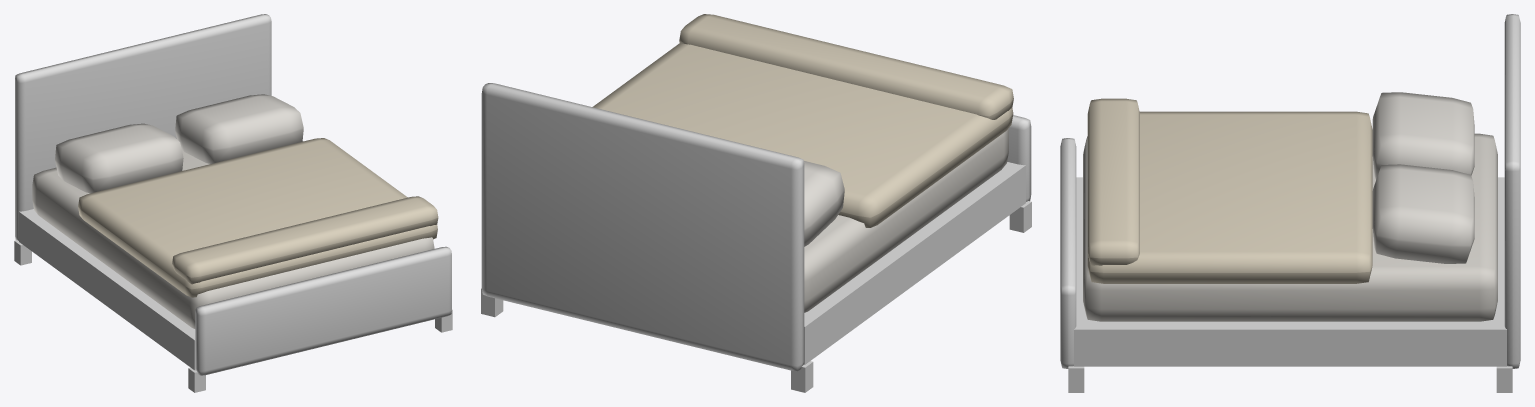
The model's file is bed-double-cream.glb.
3 renders of one model, left to right at view 1: azimuth 30°, elevation 25°; view 2: azimuth 150°, elevation 25°; view 3: azimuth 270°, elevation 25°, orthographic. The views are drawn at different scales.
Parts seen in each view (by area): view 1: bed-double-cream; view 2: bed-double-cream; view 3: bed-double-cream.
Part boxes in pixels (x1=…): bed-double-cream: x1=14, y1=14, x2=452, y2=392; bed-double-cream: x1=481, y1=14, x2=1031, y2=392; bed-double-cream: x1=1060, y1=14, x2=1520, y2=392.
Size of the model in its own units: 1.85 by 1.27 by 2.32.
